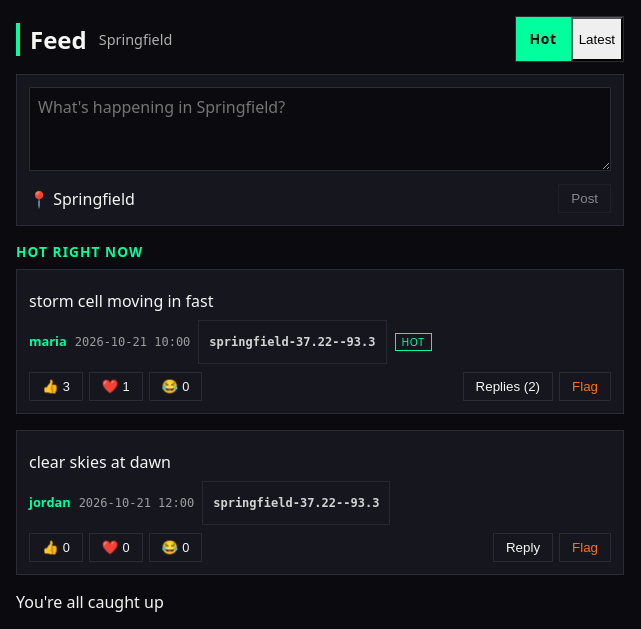
Test: FeedPage interactions › optimistic reaction toggle updates counts immediately
Expected: the element with test id "post-p_new" is shown, [16,430,624,575]
Click the button with test id "react-p_new-👍". click: [56, 548]
box: [29,533,83,562]
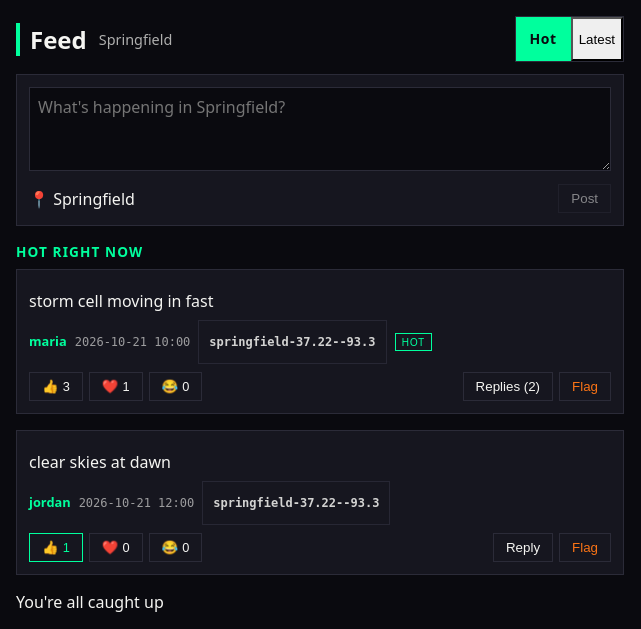
Expected: the button with test id "react-p_new-👍" shows "1", [29,533,83,562]
